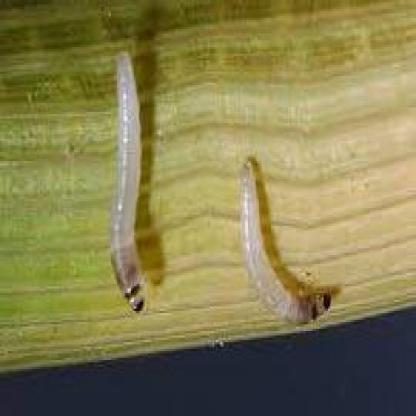whorl-maggot: (238, 152, 335, 332), (105, 33, 160, 339)
